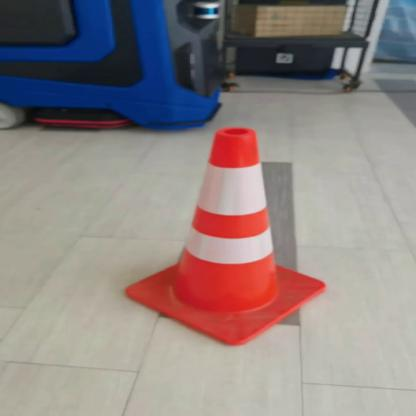cone: (120, 110, 332, 348)
